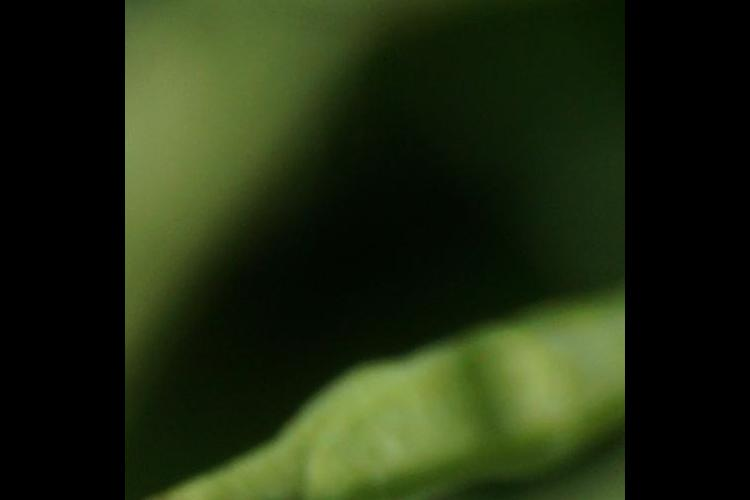bud: (131, 321, 531, 500)
